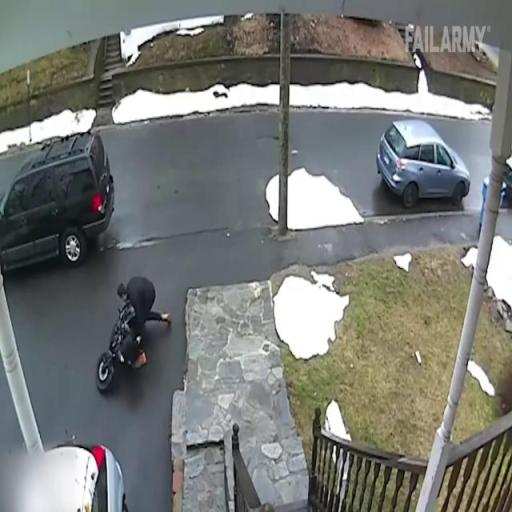Fall: (117, 274, 173, 372)
